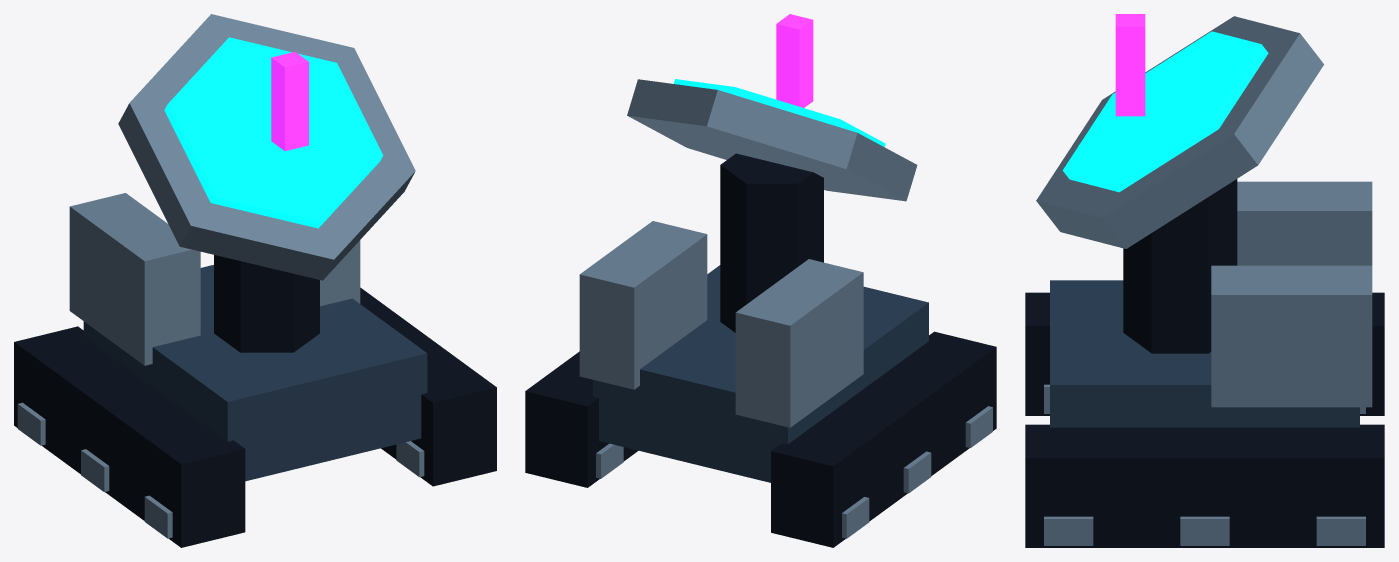
Rendered from disruptor_low.glb.
3 views of the same model, side by side, from view 1: azimuth 30°, elevation 25°; view 2: azimuth 150°, elevation 25°; view 3: azimuth 270°, elevation 25° (orthographic). The views are drawn at different scales.
Visible parts, largest first — view 1: Electronic warfare chassis, Tracked outrigger, Faceted emitter dish, Induction face, Capacitor bank, Tracked outrigger.001, Emitter swivel, Pulse feed, Capacitor bank.001, Track shoe, Track shoe.001, Track shoe.002 (+1 smaller); view 2: Tracked outrigger, Electronic warfare chassis, Capacitor bank, Capacitor bank.001, Faceted emitter dish, Emitter swivel, Tracked outrigger.001, Pulse feed, Induction face, Track shoe.001, Track shoe, Track shoe.002 (+1 smaller); view 3: Tracked outrigger.001, Capacitor bank.001, Electronic warfare chassis, Faceted emitter dish, Induction face, Emitter swivel, Capacitor bank, Tracked outrigger, Pulse feed, Track shoe.004, Track shoe.003, Track shoe.005.
Part boxes in pixels (left/top/right/bottom): Electronic warfare chassis: left=83, top=265, right=427, bottom=481; Tracked outrigger: left=14, top=326, right=245, bottom=547; Faceted emitter dish: left=118, top=14, right=415, bottom=280; Induction face: left=164, top=37, right=383, bottom=228; Capacitor bank: left=69, top=193, right=200, bottom=365; Tracked outrigger.001: left=360, top=287, right=496, bottom=486; Emitter swivel: left=214, top=255, right=319, bottom=352; Pulse feed: left=271, top=52, right=308, bottom=151; Capacitor bank.001: left=320, top=240, right=360, bottom=306; Track shoe: left=17, top=402, right=45, bottom=445; Track shoe.001: left=81, top=449, right=109, bottom=492; Track shoe.002: left=144, top=495, right=172, bottom=538; Tracked outrigger: left=771, top=331, right=996, bottom=547; Electronic warfare chassis: left=593, top=265, right=928, bottom=482; Capacitor bank: left=735, top=259, right=863, bottom=427; Capacitor bank.001: left=579, top=221, right=707, bottom=389; Faceted emitter dish: left=627, top=79, right=917, bottom=201; Emitter swivel: left=720, top=153, right=823, bottom=332; Tracked outrigger.001: left=525, top=351, right=638, bottom=487; Pulse feed: left=776, top=14, right=813, bottom=107; Induction face: left=673, top=79, right=885, bottom=146; Track shoe.001: left=903, top=451, right=931, bottom=493; Track shoe: left=842, top=497, right=869, bottom=538; Track shoe.002: left=965, top=406, right=992, bottom=447; Tracked outrigger.001: left=1025, top=424, right=1384, bottom=547; Capacitor bank.001: left=1211, top=265, right=1372, bottom=407; Electronic warfare chassis: left=1050, top=280, right=1359, bottom=427; Faceted emitter dish: left=1036, top=16, right=1323, bottom=248; Induction face: left=1062, top=31, right=1268, bottom=192; Emitter swivel: left=1123, top=179, right=1237, bottom=353; Capacitor bank: left=1237, top=181, right=1372, bottom=265; Tracked outrigger: left=1025, top=292, right=1384, bottom=415; Pulse feed: left=1115, top=14, right=1145, bottom=116; Track shoe.004: left=1180, top=516, right=1229, bottom=545; Track shoe.003: left=1316, top=516, right=1365, bottom=545; Track shoe.005: left=1044, top=516, right=1093, bottom=545.
Bounding box in the file's own units: 1.63 × 1.98 × 1.45.
